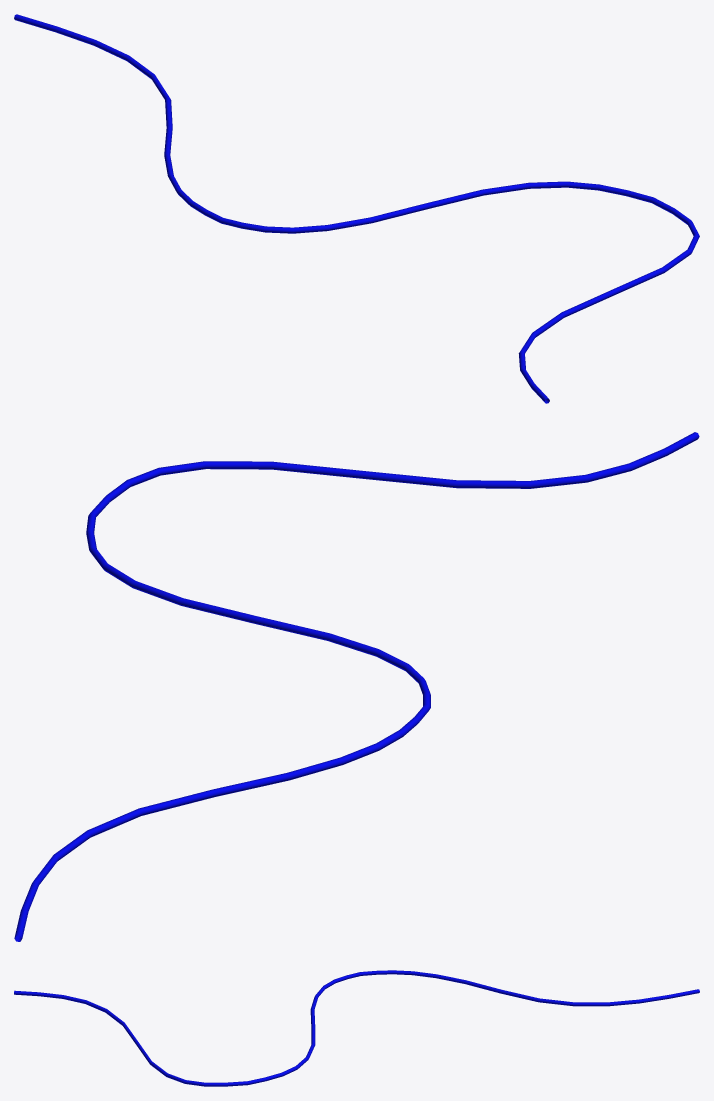
3 renders of one model, top to bottom at view 1: azimuth 30°, elevation 25°; view 2: azimuth 150°, elevation 25°; view 3: azimuth 270°, elevation 25°, orthographic. The views are drawn at different scales.
Visible parts, largest first — view 1: FC_5; view 2: FC_5; view 3: FC_5.
Part boxes in pixels (x1=…): FC_5: x1=14, y1=14, x2=699, y2=403; FC_5: x1=14, y1=432, x2=699, y2=941; FC_5: x1=14, y1=970, x2=699, y2=1086.
Size of the model in its own units: 101 by 1.29 by 256.
